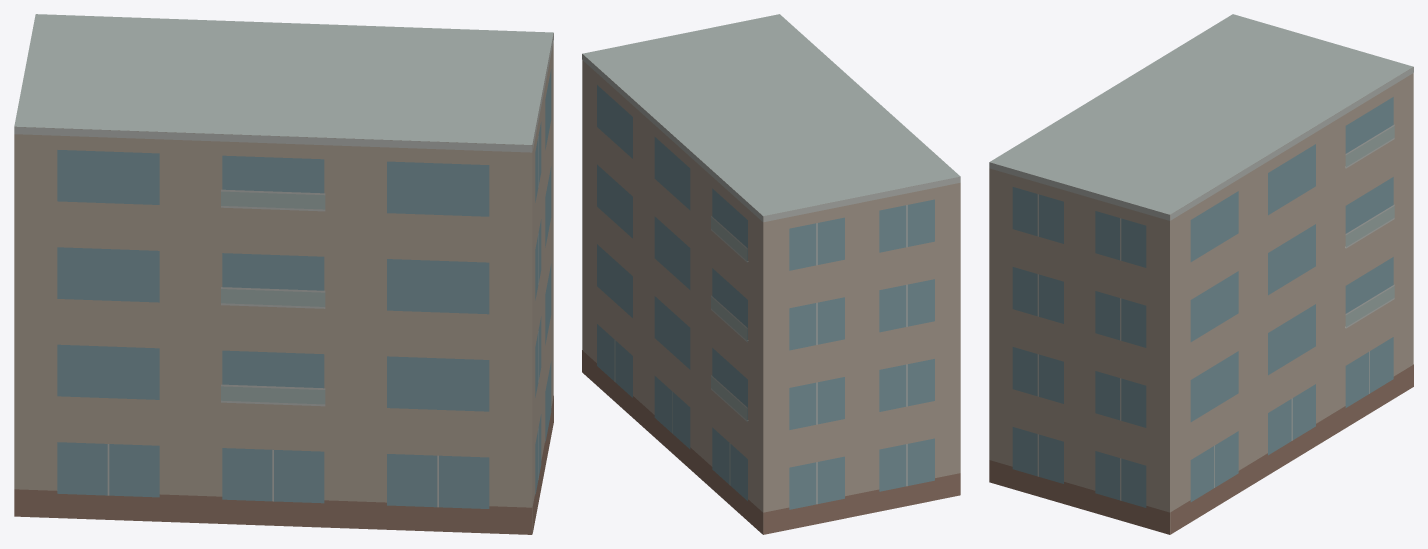
File: survey-upis-32780907.glb
The picture shows the model from 3 angles, left to right: view 1: azimuth 30°, elevation 25°; view 2: azimuth 150°, elevation 25°; view 3: azimuth 270°, elevation 25°; orthographic projection. The views are drawn at different scales.
Visible parts, largest first — view 1: survey-upis-32780907.tmp; view 2: survey-upis-32780907.tmp; view 3: survey-upis-32780907.tmp.
Part boxes in pixels (x1=…): survey-upis-32780907.tmp: x1=14, y1=14, x2=553, y2=534; survey-upis-32780907.tmp: x1=582, y1=14, x2=960, y2=534; survey-upis-32780907.tmp: x1=989, y1=14, x2=1413, y2=534.
Size of the model in its own units: 17.1 by 12.7 by 15.27.
